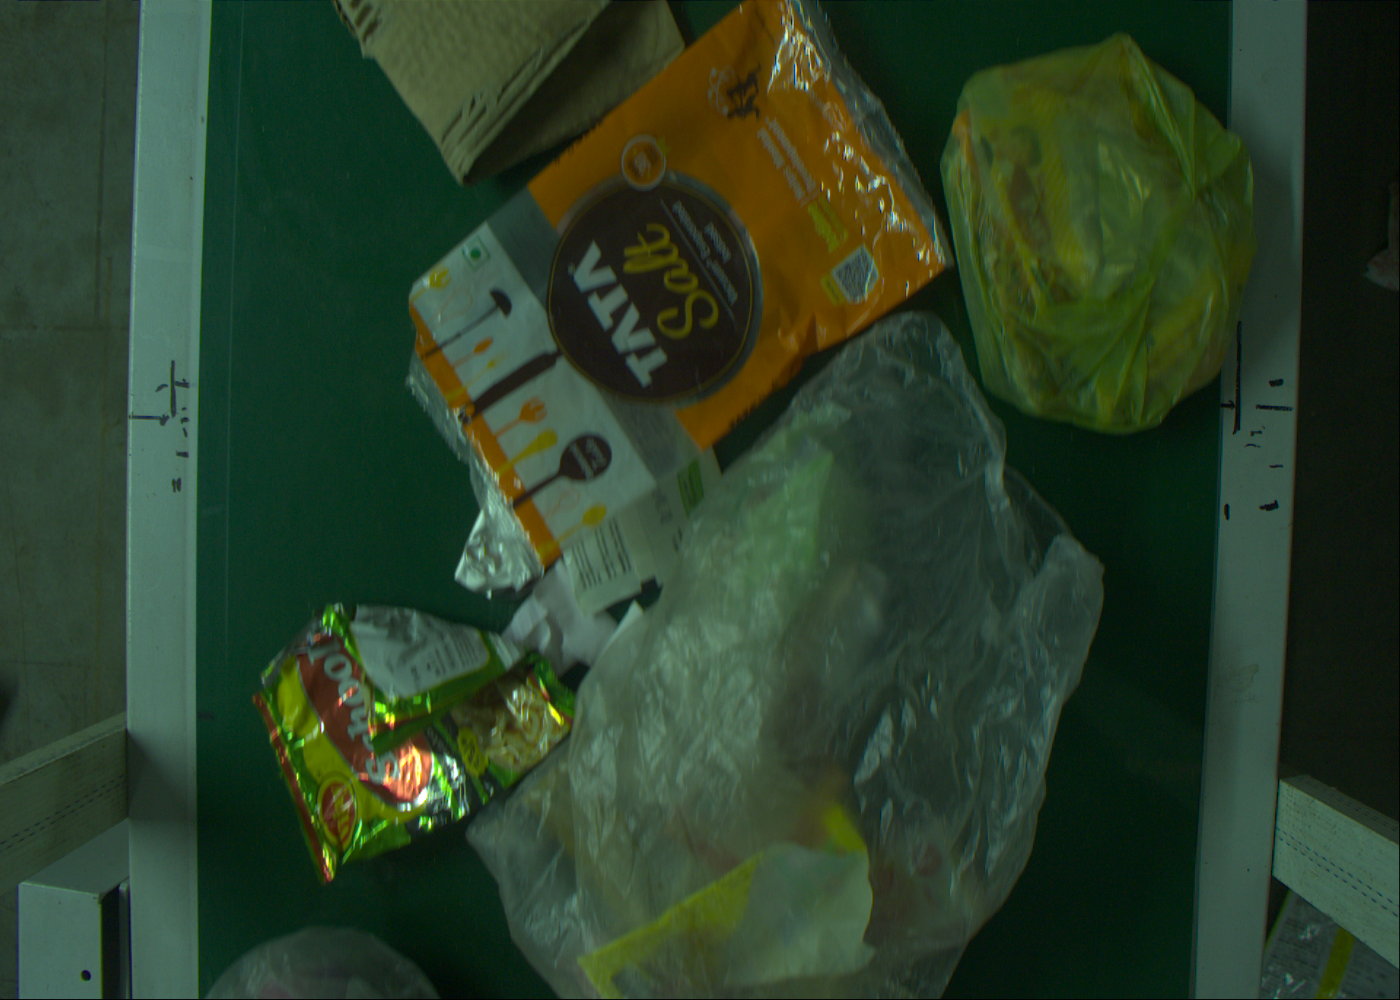hm_ldpe: (577, 358, 1055, 942), (937, 52, 1268, 435)
multilayer_plastic: (266, 604, 553, 878)
pp_w: (434, 29, 934, 590)
